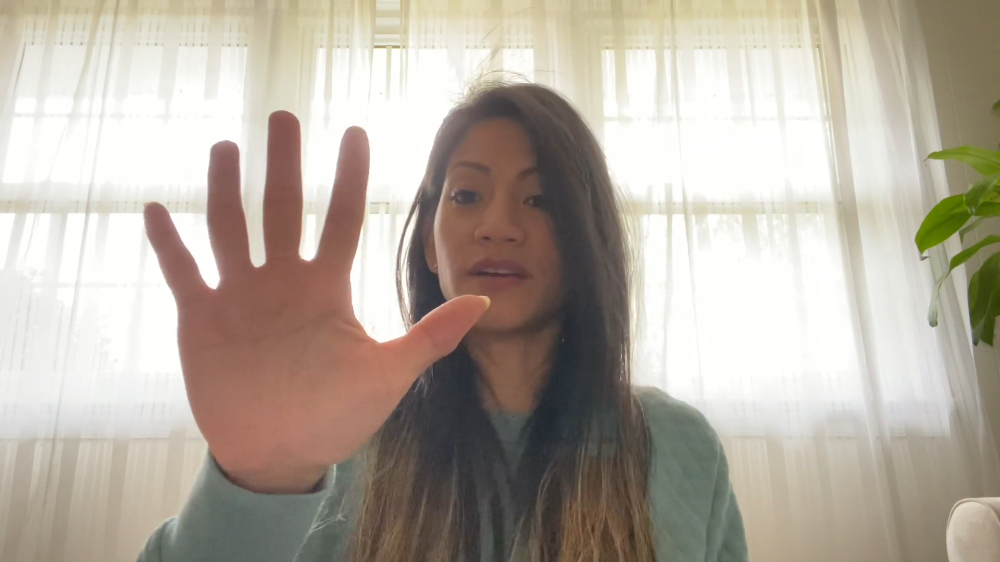hello: (144, 111, 488, 466)
